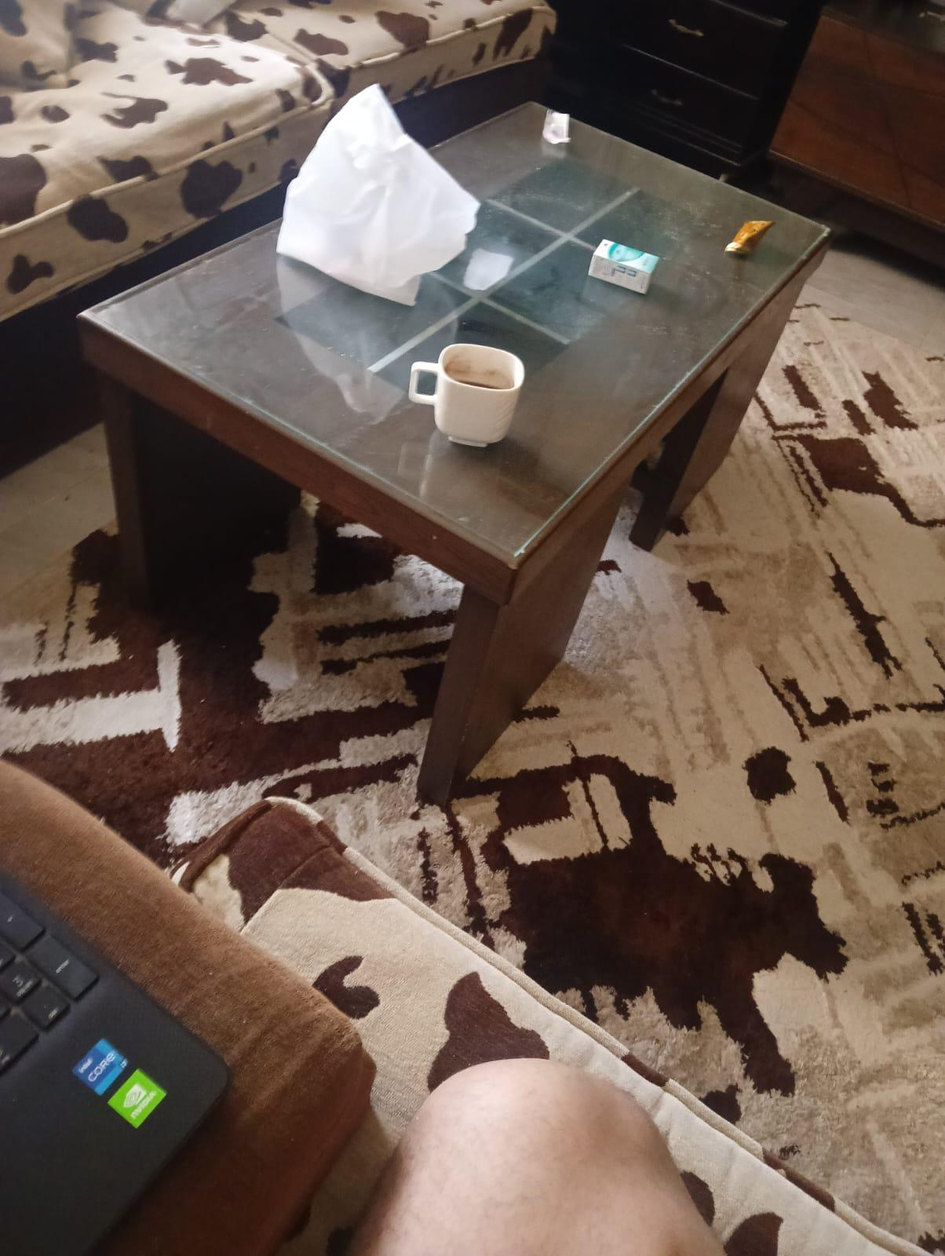cup: (409, 344, 524, 447)
